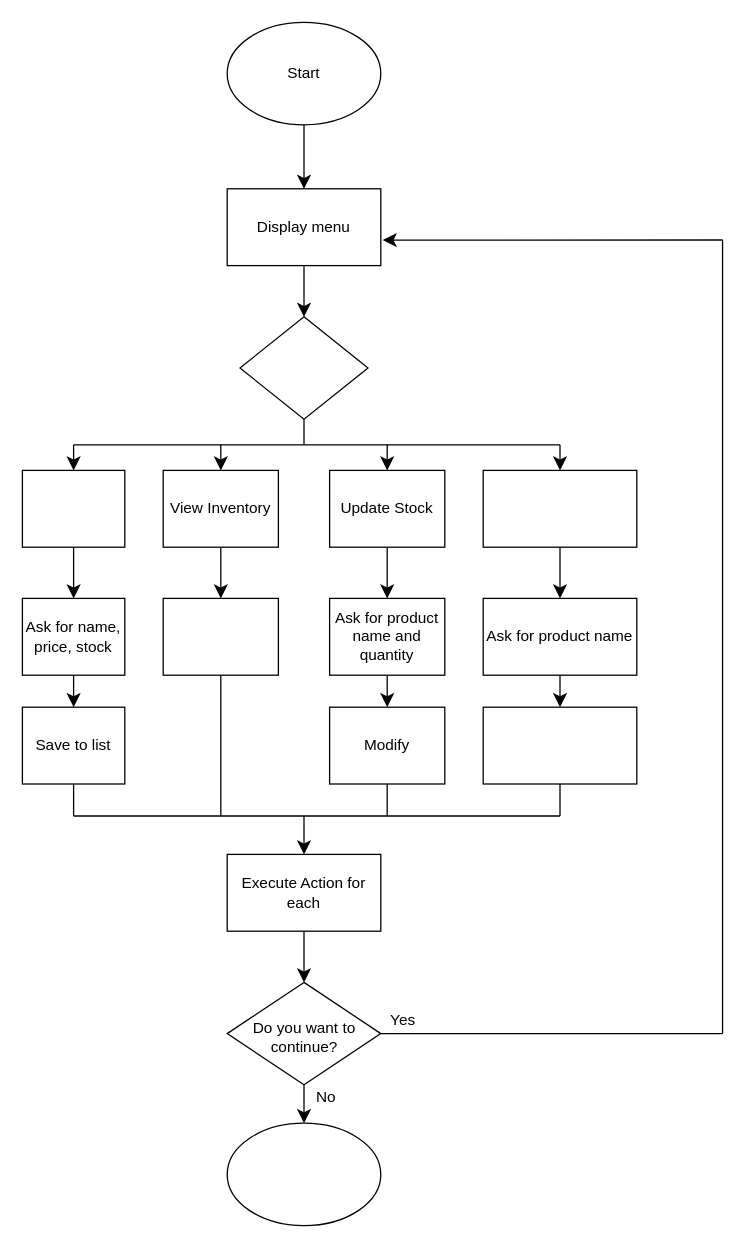
This 746x1248 diagram has some shape labels left out. Here are the shapes that lost their labels. From the top down, the box of each, then its label:
(239, 316, 368, 419): Menu options
(21, 469, 125, 547): Add Product
(482, 469, 637, 547): Remove Product
(162, 597, 278, 675): Loop through product list and display
(482, 706, 637, 784): Remove from list
(226, 1122, 381, 1226): Exit
